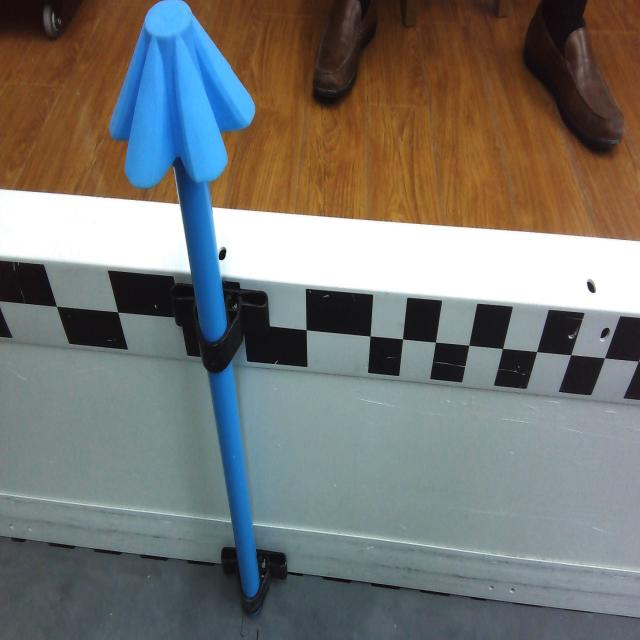zblue-Stake-Head: (108, 0, 256, 189)
